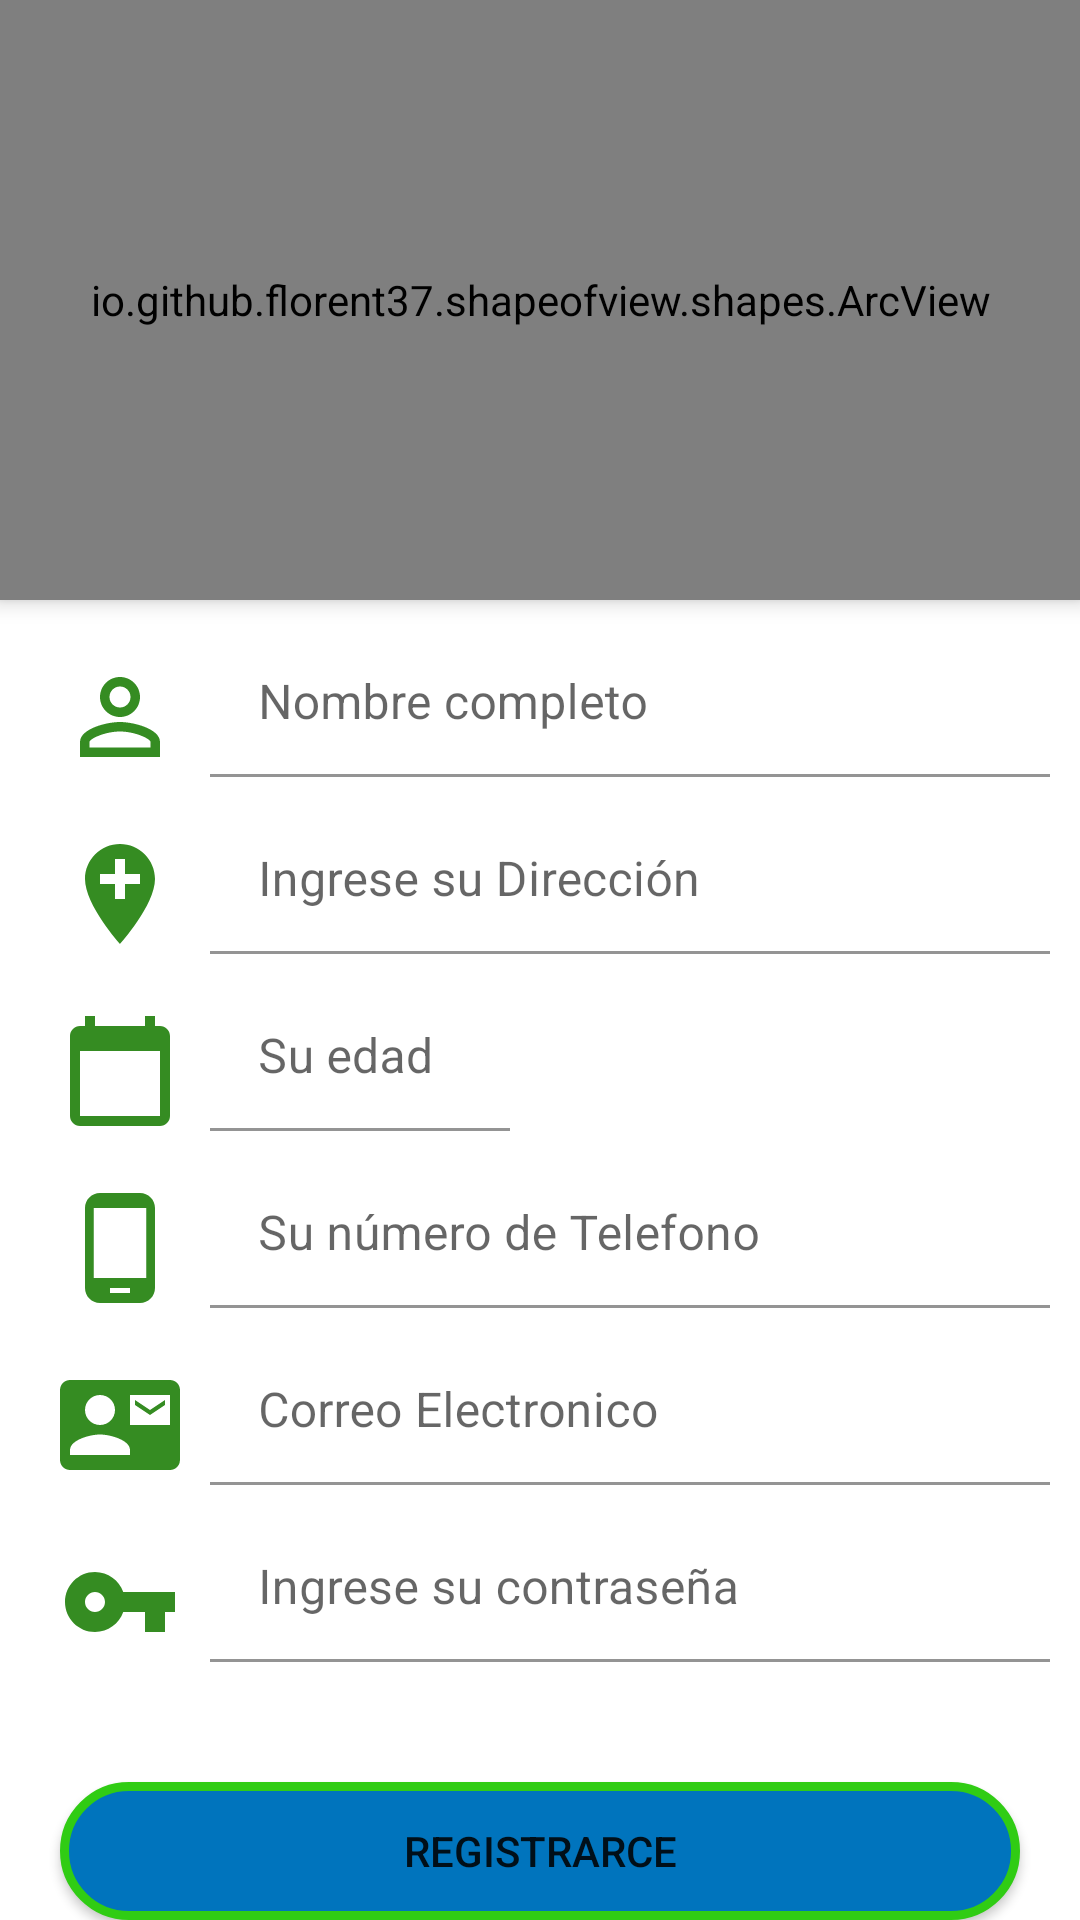

Locate icon controls on the screen. Image size 1080x1920, boxes as (x1, y1, x2, y2).
birth: (70, 1016, 170, 1126)
direccion: (85, 844, 155, 944)
key: (65, 1572, 175, 1632)
mail: (60, 1380, 180, 1470)
phone: (85, 1193, 155, 1303)
user: (80, 677, 160, 757)
